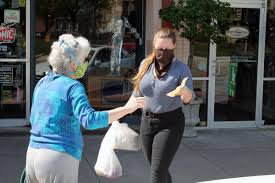Caution: (24, 29, 196, 183)
